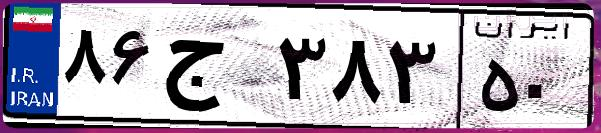0: (525, 38, 570, 115)
3: (270, 28, 330, 110), (385, 28, 445, 110)
5: (475, 38, 525, 113)
6: (110, 28, 158, 98)
8: (330, 28, 385, 110), (57, 26, 110, 100)
ج: (158, 20, 270, 120)
